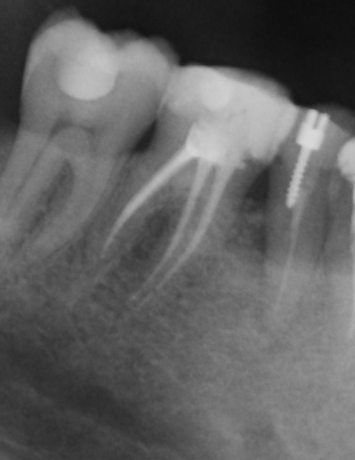fracture: (131, 293, 155, 317)
